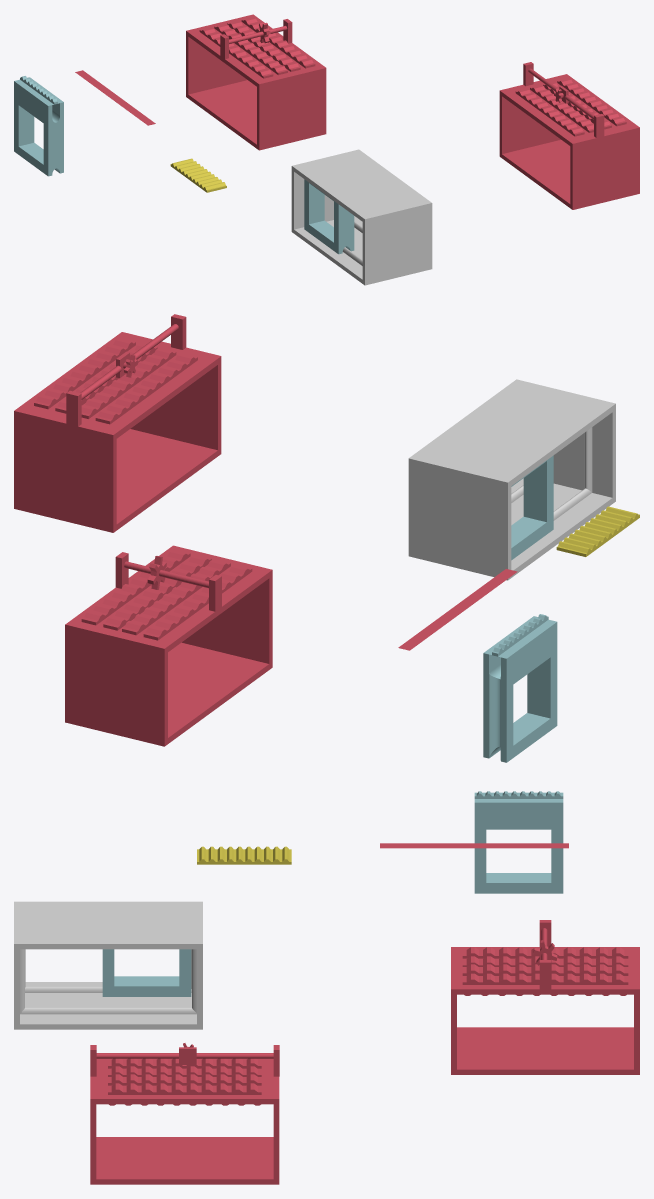
Rendered from 1번 창문틀.glb.
3 renders of one model, top to bottom at view 1: azimuth 30°, elevation 25°; view 2: azimuth 150°, elevation 25°; view 3: azimuth 270°, elevation 25°, orthographic. The views are drawn at different scales.
Parts seen in each view (by area): view 1: Mesh_Mesh_head_geo.001_lambert2SG.001; view 2: Mesh_Mesh_head_geo.001_lambert2SG.001; view 3: Mesh_Mesh_head_geo.001_lambert2SG.001.
Part boxes in pixels (x1,y1,x2,y2): Mesh_Mesh_head_geo.001_lambert2SG.001: (14, 14, 639, 285); Mesh_Mesh_head_geo.001_lambert2SG.001: (14, 314, 639, 762); Mesh_Mesh_head_geo.001_lambert2SG.001: (14, 791, 639, 1184).
Bounding box in the file's own units: 112 × 22 × 106.
